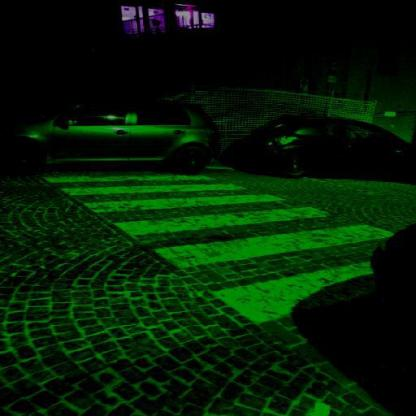crosswalk: (76, 191, 332, 240)
